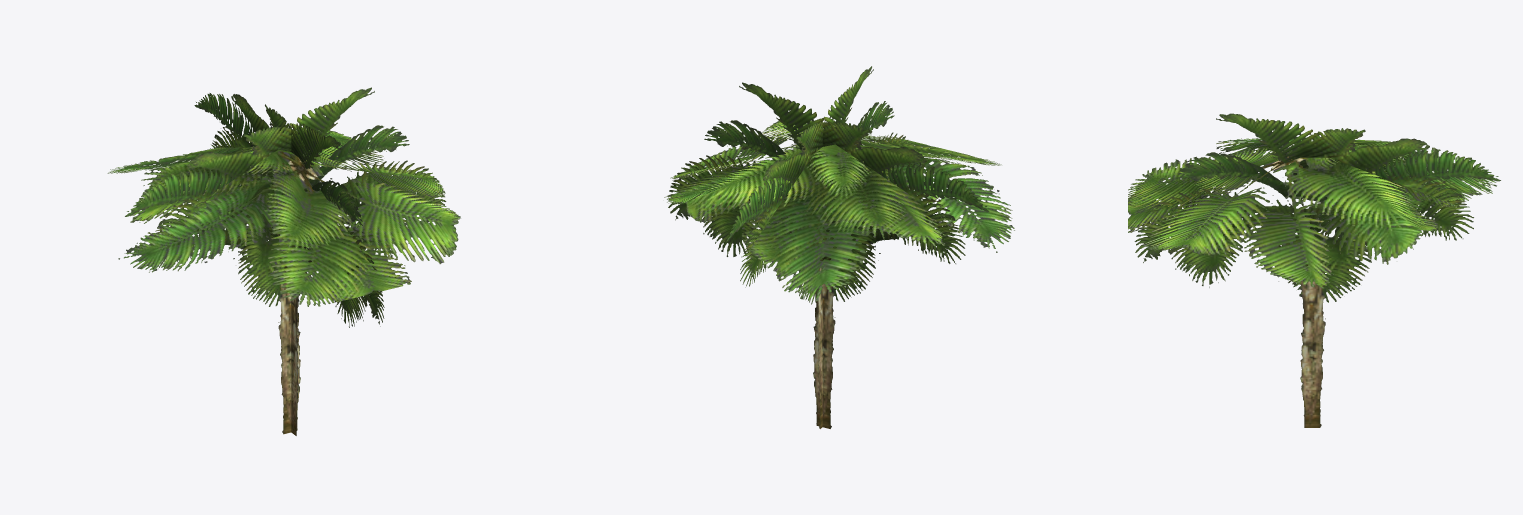
Rendered from tree_004_L.fbx.
The picture shows the model from 3 angles, left to right: view 1: azimuth 30°, elevation 25°; view 2: azimuth 150°, elevation 25°; view 3: azimuth 270°, elevation 25°; orthographic projection. The views are drawn at different scales.
Visible parts, largest first — view 1: t004_2; view 2: t004_2; view 3: t004_2.
Part boxes in pixels (x1,y1,x2,y2): t004_2: (107,87,460,435); t004_2: (664,66,1014,428); t004_2: (1128,113,1500,427).
Bounding box in the file's own units: 3.26 × 3.2 × 3.32.
1 material, 1 textured.
